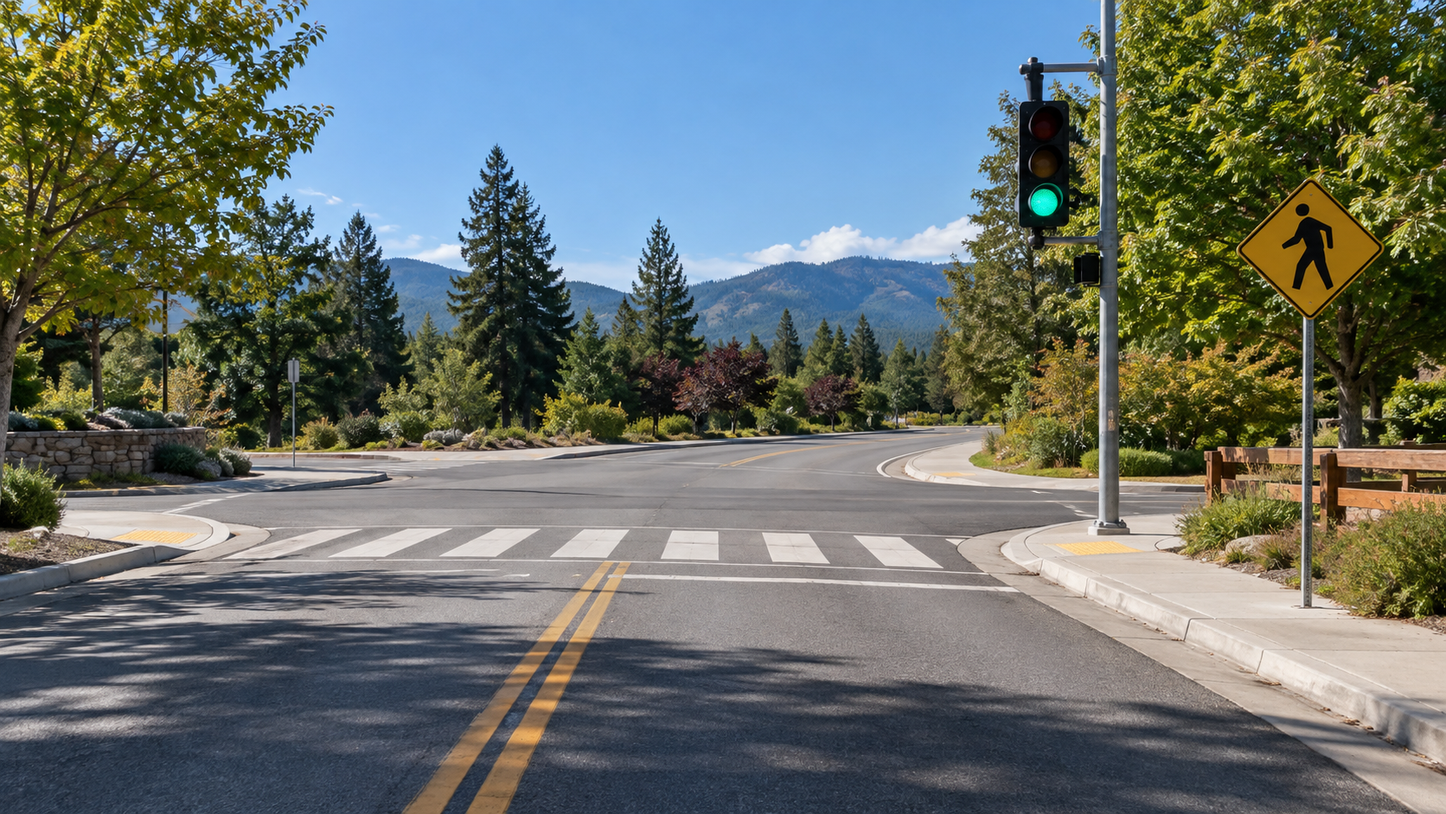crossing_warning_sign: (1261, 178, 1379, 327)
traffic_light: (1240, 57, 1304, 229)
zebra_crossing: (0, 519, 1446, 574)
